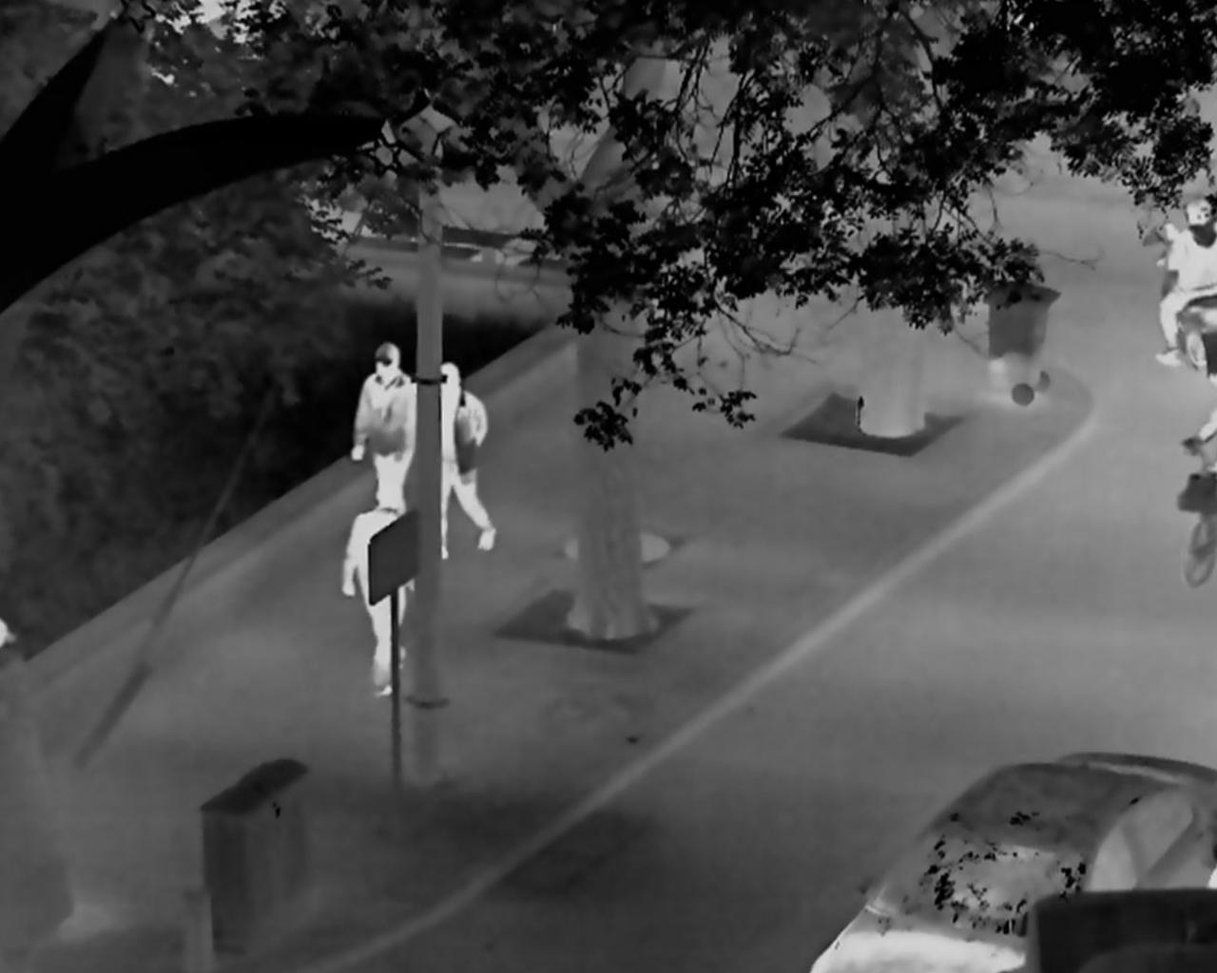person: (341, 482, 413, 697), (439, 357, 498, 562), (352, 342, 417, 511), (1154, 198, 1217, 369)
